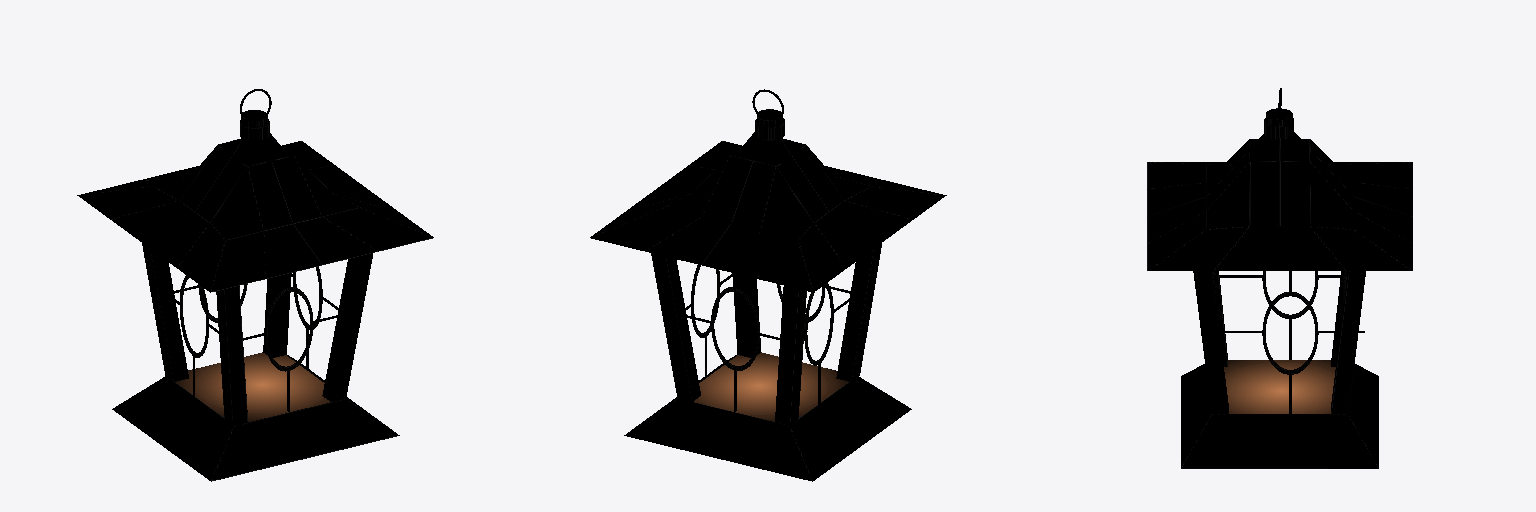
3 views of the same model, side by side, from view 1: azimuth 30°, elevation 25°; view 2: azimuth 150°, elevation 25°; view 3: azimuth 270°, elevation 25° (orthographic).
Parts seen in each view (by area): view 1: Cube.003_Cube.004; view 2: Cube.003_Cube.004; view 3: Cube.003_Cube.004.
Part boxes in pixels (x1,y1,x2,y2): Cube.003_Cube.004: (77,89,433,481); Cube.003_Cube.004: (590,89,946,481); Cube.003_Cube.004: (1147,88,1412,468).
Size of the model in its own units: 2.97 by 4.21 by 3.05.
1 materials, 1 textured.